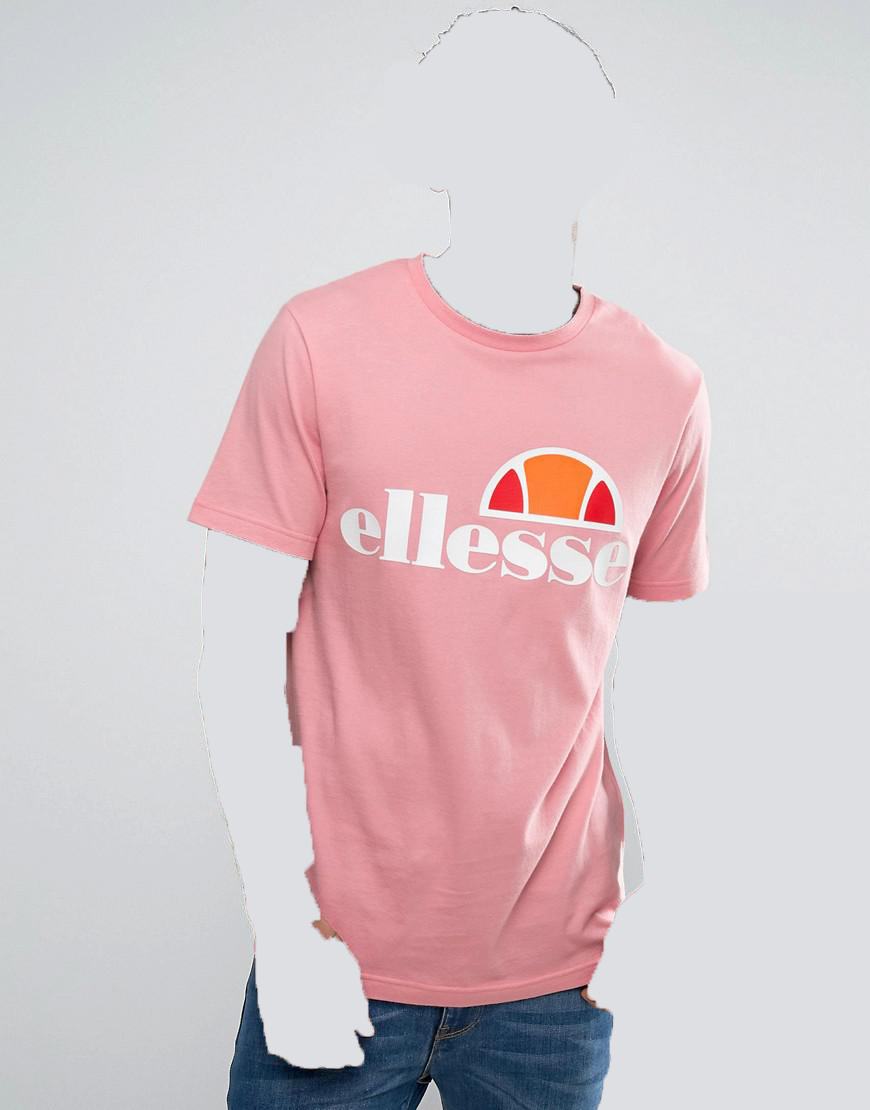teeshirt: (181, 249, 730, 990)
